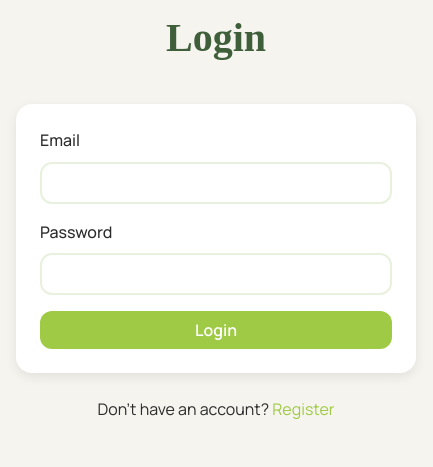
Login Page › shows validation error for short password
The image size is (433, 467).
In the field labelled "Email": (216, 183) [40,162,392,204], type "test@example.com"
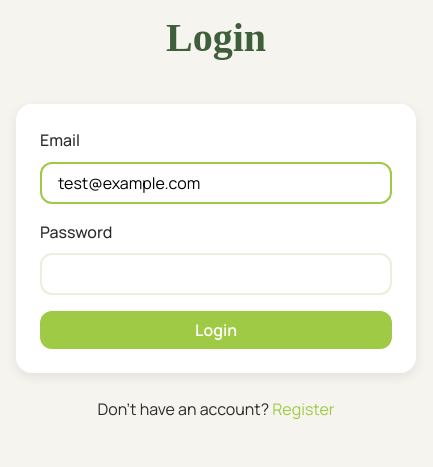
In the password field labelled "Password": (216, 274) [40,253,392,295], type "12345"
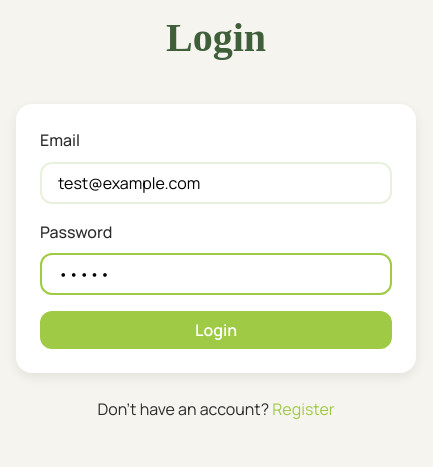
Click the button "Login": (216, 330) [40,311,392,349]
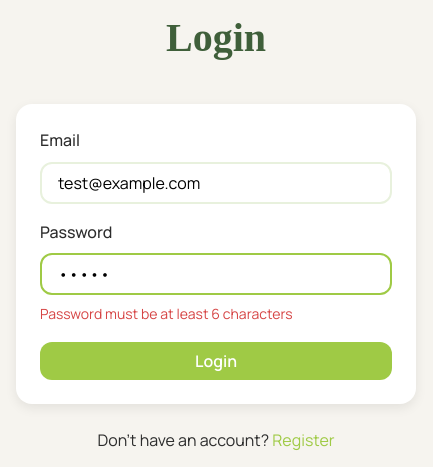
expect the text "Password must be at least 6 characters" is shown: met, box [40,304,293,323]
